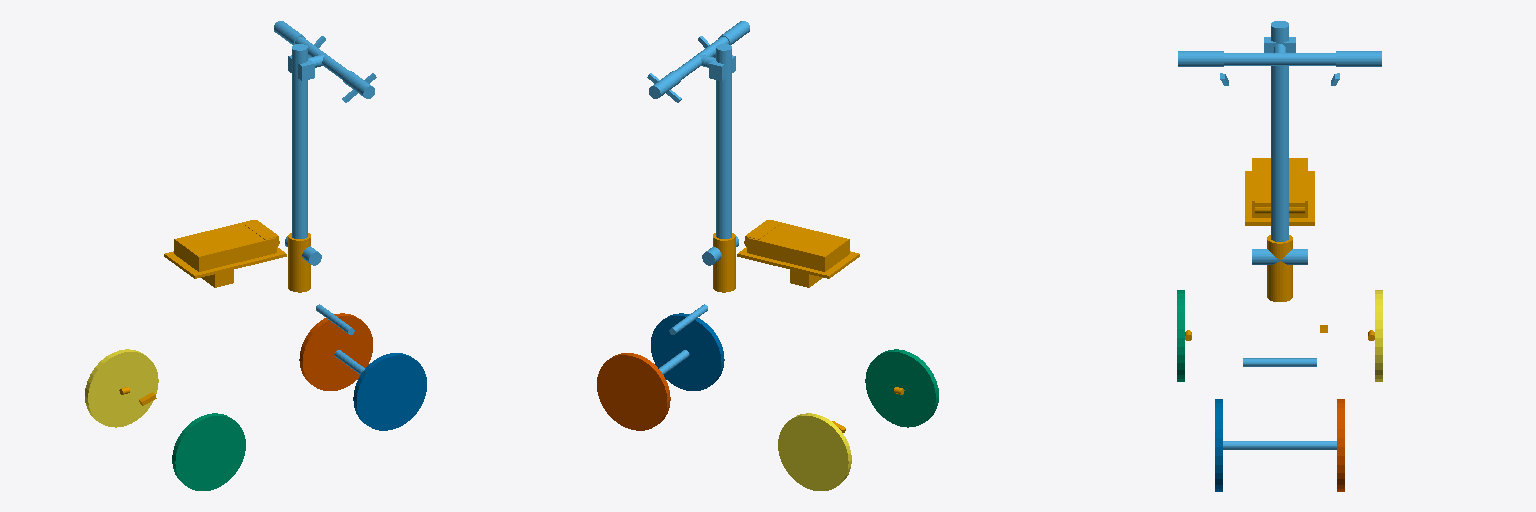
URDF robot description (knee_scooter):
<robot name="knee_scooter">
  <link name="base_frame">
    <inertial>
      <origin xyz="0.29 0 0.32" rpy="0 0 0" />
      <mass value="6.8" />
      <inertia ixx="0.341813" ixy="0" ixz="0" iyy="0.542413" iyz="0" izz="0.420013" />
      </inertial>
    <visual>
      <geometry>
        <mesh filename="assets/meshes/knee_scooter_frame.obj" />
        </geometry>
      </visual>
    <visual>
      <origin xyz="0.48 0 0.44" rpy="0 0 0" />
      <geometry>
        <cylinder radius="0.028" length="0.14" />
        </geometry>
      </visual>
    <visual>
      <origin xyz="0.24 0 0.476" rpy="0 0 0" />
      <geometry>
        <box size="0.055 0.095 0.05" />
        </geometry>
      </visual>
    <visual>
      <origin xyz="0.27 0 0.507" rpy="0 0 0" />
      <geometry>
        <box size="0.26 0.15 0.008" />
        </geometry>
      </visual>
    <visual>
      <origin xyz="0.27 0 0.531" rpy="0 0 0" />
      <geometry>
        <box size="0.22 0.12 0.042" />
        </geometry>
      </visual>
    <visual>
      <origin xyz="0.37 0 0.546" rpy="0 0 0" />
      <geometry>
        <box size="0.04 0.11 0.014" />
        </geometry>
      </visual>
    <visual>
      <origin xyz="0.38 0 0.535" rpy="1.5708 0 0" />
      <geometry>
        <cylinder radius="0.012" length="0.11" />
        </geometry>
      </visual>
    <visual>
      <origin xyz="0.105 0.095 0.118" rpy="0 -0.3 0" />
      <geometry>
        <box size="0.04 0.016 0.012" />
        </geometry>
      </visual>
    <visual>
      <origin xyz="0.1 -0.198 0.1" rpy="0 1.5708 0" />
      <geometry>
        <cylinder radius="0.008" length="0.022" />
        </geometry>
      </visual>
    <visual>
      <origin xyz="0.1 0.198 0.1" rpy="0 1.5708 0" />
      <geometry>
        <cylinder radius="0.008" length="0.022" />
        </geometry>
      </visual>
    </link>
  <link name="steering_assembly">
    <inertial>
      <origin xyz="0.08 0 0.14" rpy="0 0 0" />
      <mass value="2.6" />
      <inertia ixx="0.2379" ixy="0" ixz="0" iyy="0.21918" iyz="0" izz="0.05772" />
      </inertial>
    <visual>
      <origin xyz="0 0 0.012" rpy="0 0 0" />
      <geometry>
        <cylinder radius="0.022" length="0.036" />
        </geometry>
      </visual>
    <visual>
      <origin xyz="0 0 0.3" rpy="0 0 0" />
      <geometry>
        <cylinder radius="0.02" length="0.56" />
        </geometry>
      </visual>
    <visual>
      <origin xyz="0.01 0 0.03" rpy="1.5708 0 0" />
      <geometry>
        <cylinder radius="0.018" length="0.12" />
        </geometry>
      </visual>
    <visual>
      <origin xyz="0.1 0 -0.18" rpy="1.5708 0 0" />
      <geometry>
        <cylinder radius="0.009" length="0.16" />
        </geometry>
      </visual>
    <visual>
      <origin xyz="0.18 0 -0.34" rpy="1.5708 0 0" />
      <geometry>
        <cylinder radius="0.01" length="0.264" />
        </geometry>
      </visual>
    <visual>
      <geometry>
        <mesh filename="assets/meshes/knee_scooter_fork.obj" />
        </geometry>
      </visual>
    <visual>
      <origin xyz="0.005 0 0.525" rpy="0 0 0" />
      <geometry>
        <box size="0.035 0.07 0.04" />
        </geometry>
      </visual>
    <visual>
      <origin xyz="0.035 0 0.53" rpy="0 1.5708 0" />
      <geometry>
        <cylinder radius="0.014" length="0.07" />
        </geometry>
      </visual>
    <visual>
      <origin xyz="0.07 0 0.53" rpy="1.5708 0 0" />
      <geometry>
        <cylinder radius="0.014" length="0.34" />
        </geometry>
      </visual>
    <visual>
      <origin xyz="0.07 -0.17 0.53" rpy="1.5708 0 0" />
      <geometry>
        <cylinder radius="0.017" length="0.1" />
        </geometry>
      </visual>
    <visual>
      <origin xyz="0.07 0.17 0.53" rpy="1.5708 0 0" />
      <geometry>
        <cylinder radius="0.017" length="0.1" />
        </geometry>
      </visual>
    <visual>
      <origin xyz="0.1 -0.12 0.495" rpy="0 -0.58 -0.1" />
      <geometry>
        <box size="0.1 0.01 0.012" />
        </geometry>
      </visual>
    <visual>
      <origin xyz="0.1 0.12 0.495" rpy="0 -0.58 0.1" />
      <geometry>
        <box size="0.1 0.01 0.012" />
        </geometry>
      </visual>
    </link>
  <link name="rear_left_wheel">
    <inertial>
      <origin xyz="0 0 0" rpy="1.5708 0 0" />
      <mass value="0.75" />
      <inertia ixx="0.001891" ixy="0" ixz="0" iyy="0.001891" iyz="0" izz="0.00375" />
      </inertial>
    <visual>
      <origin xyz="0 0 0" rpy="1.5708 0 0" />
      <geometry>
        <cylinder radius="0.1" length="0.016" />
        </geometry>
      </visual>
    <visual>
      <origin xyz="0 0 0" rpy="1.5708 0 0" />
      <geometry>
        <cylinder radius="0.08" length="0.015" />
        </geometry>
      </visual>
    <visual>
      <origin xyz="0 0 0" rpy="1.5708 0 0" />
      <geometry>
        <cylinder radius="0.03" length="0.012" />
        </geometry>
      </visual>
    <visual>
      <origin xyz="0 -0.006 0" rpy="1.5708 0 0" />
      <geometry>
        <cylinder radius="0.086" length="0.003" />
        </geometry>
      </visual>
    <visual>
      <origin xyz="0 0.006 0" rpy="1.5708 0 0" />
      <geometry>
        <cylinder radius="0.086" length="0.003" />
        </geometry>
      </visual>
    <visual>
      <origin xyz="0 0 0" rpy="1.5708 0 0" />
      <geometry>
        <cylinder radius="0.018" length="0.007" />
        </geometry>
      </visual>
    </link>
  <link name="rear_right_wheel">
    <inertial>
      <origin xyz="0 0 0" rpy="1.5708 0 0" />
      <mass value="0.75" />
      <inertia ixx="0.001891" ixy="0" ixz="0" iyy="0.001891" iyz="0" izz="0.00375" />
      </inertial>
    <visual>
      <origin xyz="0 0 0" rpy="1.5708 0 0" />
      <geometry>
        <cylinder radius="0.1" length="0.016" />
        </geometry>
      </visual>
    <visual>
      <origin xyz="0 0 0" rpy="1.5708 0 0" />
      <geometry>
        <cylinder radius="0.08" length="0.015" />
        </geometry>
      </visual>
    <visual>
      <origin xyz="0 0 0" rpy="1.5708 0 0" />
      <geometry>
        <cylinder radius="0.03" length="0.012" />
        </geometry>
      </visual>
    <visual>
      <origin xyz="0 -0.006 0" rpy="1.5708 0 0" />
      <geometry>
        <cylinder radius="0.086" length="0.003" />
        </geometry>
      </visual>
    <visual>
      <origin xyz="0 0.006 0" rpy="1.5708 0 0" />
      <geometry>
        <cylinder radius="0.086" length="0.003" />
        </geometry>
      </visual>
    <visual>
      <origin xyz="0 0 0" rpy="1.5708 0 0" />
      <geometry>
        <cylinder radius="0.018" length="0.007" />
        </geometry>
      </visual>
    </link>
  <link name="front_left_wheel">
    <inertial>
      <origin xyz="0 0 0" rpy="1.5708 0 0" />
      <mass value="0.75" />
      <inertia ixx="0.001891" ixy="0" ixz="0" iyy="0.001891" iyz="0" izz="0.00375" />
      </inertial>
    <visual>
      <origin xyz="0 0 0" rpy="1.5708 0 0" />
      <geometry>
        <cylinder radius="0.1" length="0.016" />
        </geometry>
      </visual>
    <visual>
      <origin xyz="0 0 0" rpy="1.5708 0 0" />
      <geometry>
        <cylinder radius="0.08" length="0.015" />
        </geometry>
      </visual>
    <visual>
      <origin xyz="0 0 0" rpy="1.5708 0 0" />
      <geometry>
        <cylinder radius="0.03" length="0.012" />
        </geometry>
      </visual>
    <visual>
      <origin xyz="0 -0.006 0" rpy="1.5708 0 0" />
      <geometry>
        <cylinder radius="0.086" length="0.003" />
        </geometry>
      </visual>
    <visual>
      <origin xyz="0 0.006 0" rpy="1.5708 0 0" />
      <geometry>
        <cylinder radius="0.086" length="0.003" />
        </geometry>
      </visual>
    <visual>
      <origin xyz="0 0 0" rpy="1.5708 0 0" />
      <geometry>
        <cylinder radius="0.018" length="0.007" />
        </geometry>
      </visual>
    </link>
  <link name="front_right_wheel">
    <inertial>
      <origin xyz="0 0 0" rpy="1.5708 0 0" />
      <mass value="0.75" />
      <inertia ixx="0.001891" ixy="0" ixz="0" iyy="0.001891" iyz="0" izz="0.00375" />
      </inertial>
    <visual>
      <origin xyz="0 0 0" rpy="1.5708 0 0" />
      <geometry>
        <cylinder radius="0.1" length="0.016" />
        </geometry>
      </visual>
    <visual>
      <origin xyz="0 0 0" rpy="1.5708 0 0" />
      <geometry>
        <cylinder radius="0.08" length="0.015" />
        </geometry>
      </visual>
    <visual>
      <origin xyz="0 0 0" rpy="1.5708 0 0" />
      <geometry>
        <cylinder radius="0.03" length="0.012" />
        </geometry>
      </visual>
    <visual>
      <origin xyz="0 -0.006 0" rpy="1.5708 0 0" />
      <geometry>
        <cylinder radius="0.086" length="0.003" />
        </geometry>
      </visual>
    <visual>
      <origin xyz="0 0.006 0" rpy="1.5708 0 0" />
      <geometry>
        <cylinder radius="0.086" length="0.003" />
        </geometry>
      </visual>
    <visual>
      <origin xyz="0 0 0" rpy="1.5708 0 0" />
      <geometry>
        <cylinder radius="0.018" length="0.007" />
        </geometry>
      </visual>
    </link>
  <joint name="steering_joint" type="revolute">
    <origin xyz="0.48 0 0.44" rpy="0 0 0" />
    <parent link="base_frame" />
    <child link="steering_assembly" />
    <axis xyz="0 0 1" />
    <limit effort="12" velocity="2.5" lower="-0.75" upper="0.75" />
    </joint>
  <joint name="rear_left_roll" type="continuous">
    <origin xyz="0.1 -0.214 0.1" rpy="0 0 0" />
    <parent link="base_frame" />
    <child link="rear_left_wheel" />
    <axis xyz="0 1 0" />
    <limit effort="8" velocity="18" />
    </joint>
  <joint name="rear_right_roll" type="continuous">
    <origin xyz="0.1 0.214 0.1" rpy="0 0 0" />
    <parent link="base_frame" />
    <child link="rear_right_wheel" />
    <axis xyz="0 1 0" />
    <limit effort="8" velocity="18" />
    </joint>
  <joint name="front_left_roll" type="continuous">
    <origin xyz="0.18 -0.132 -0.34" rpy="0 0 0" />
    <parent link="steering_assembly" />
    <child link="front_left_wheel" />
    <axis xyz="0 1 0" />
    <limit effort="8" velocity="18" />
    </joint>
  <joint name="front_right_roll" type="continuous">
    <origin xyz="0.18 0.132 -0.34" rpy="0 0 0" />
    <parent link="steering_assembly" />
    <child link="front_right_wheel" />
    <axis xyz="0 1 0" />
    <limit effort="8" velocity="18" />
    </joint>
  </robot>

--- What the picture shows (computed from the rendered views, not written in the file) ---
Views: 3 orthographic renders of the robot side by side, from view 1: azimuth 30°, elevation 25°; view 2: azimuth 150°, elevation 25°; view 3: azimuth 270°, elevation 25°.
Model knee_scooter with 6 links and 5 joints (1 revolute, 4 continuous), rooted at base_frame, posed all joints at 0.
Visible links, largest first — view 1: base_frame, steering_assembly, front_left_wheel, rear_left_wheel, rear_right_wheel, front_right_wheel; view 2: base_frame, steering_assembly, front_right_wheel, rear_right_wheel, rear_left_wheel, front_left_wheel; view 3: steering_assembly, base_frame, front_left_wheel, front_right_wheel, rear_left_wheel, rear_right_wheel.
Link boxes in pixels (x1,y1,x2,y2): base_frame: (119,220,310,405); steering_assembly: (274,21,376,374); front_left_wheel: (353,353,426,430); rear_left_wheel: (172,413,245,490); rear_right_wheel: (85,349,158,427); front_right_wheel: (299,313,372,390); base_frame: (713,220,904,432); steering_assembly: (647,21,749,374); front_right_wheel: (597,353,670,430); rear_right_wheel: (778,413,851,490); rear_left_wheel: (865,349,938,427); front_left_wheel: (651,313,724,390); steering_assembly: (1178,21,1381,449); base_frame: (1185,158,1374,340); front_left_wheel: (1215,399,1222,491); front_right_wheel: (1337,399,1344,491); rear_left_wheel: (1177,290,1184,381); rear_right_wheel: (1375,290,1382,381).
Bounding box of the posed robot: 0.76 × 0.444 × 1.02 m (x, y, z).
Meshes: 2 distinct files referenced, 0 mesh visuals loaded (none loaded); not drawn: 2 (reference not matched to a file when rendering).
